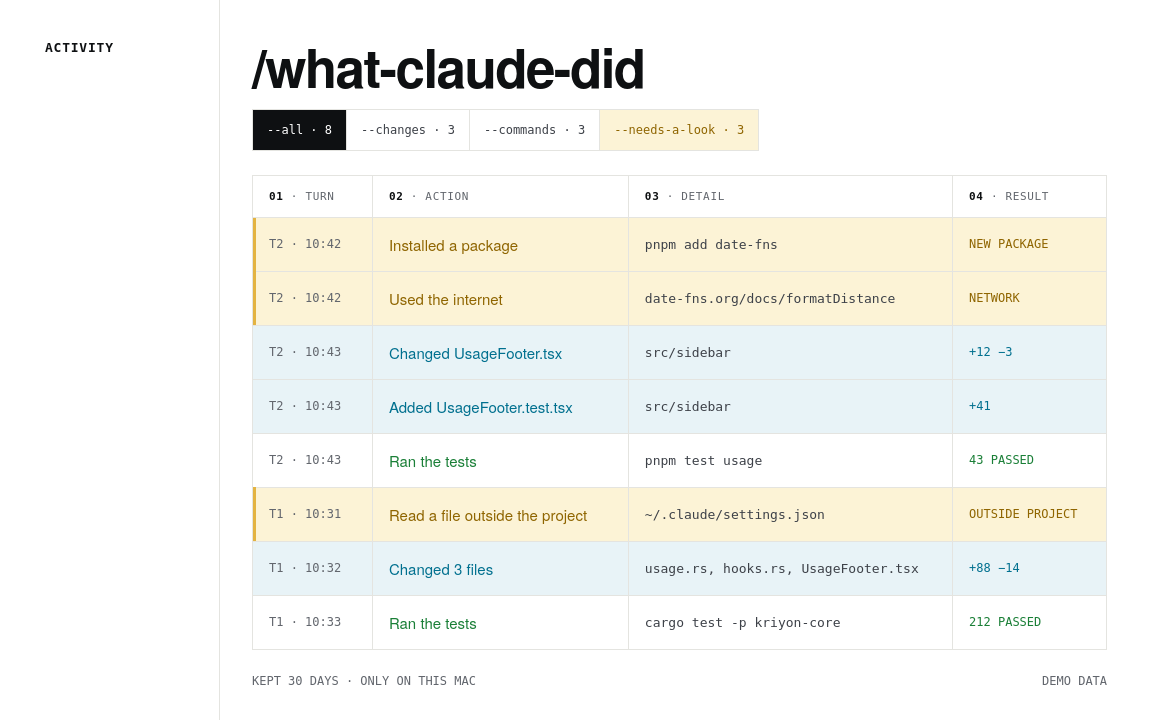
Test: a flag filters the table and says so
Click the button "--changes · 3".
click(408, 130)  # box x1=347 y1=110 x2=470 y2=150
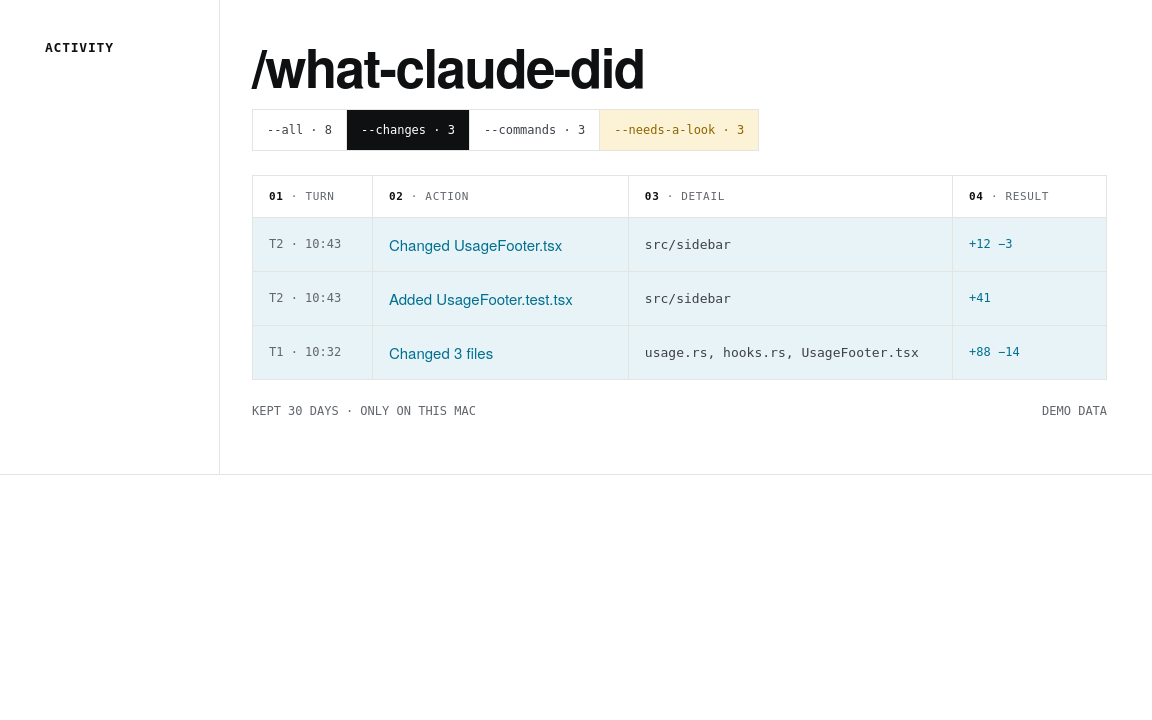
Expected: the text "Ran the tests" is gone
